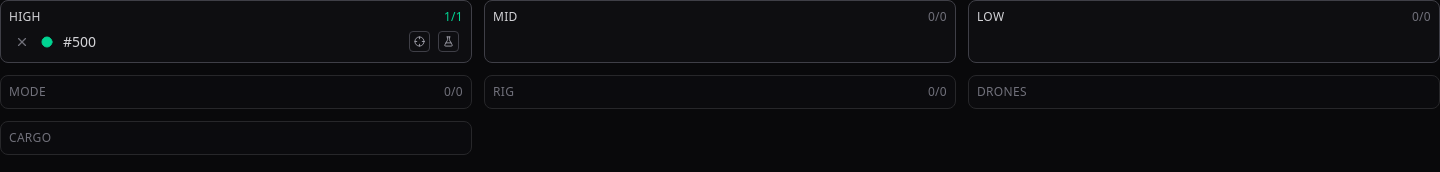
SlotGrid module state icon › shows the state and cycles active → overheated on click
Step 1. Click the button named "module state: active" → (47, 42), box [39,34,55,50]
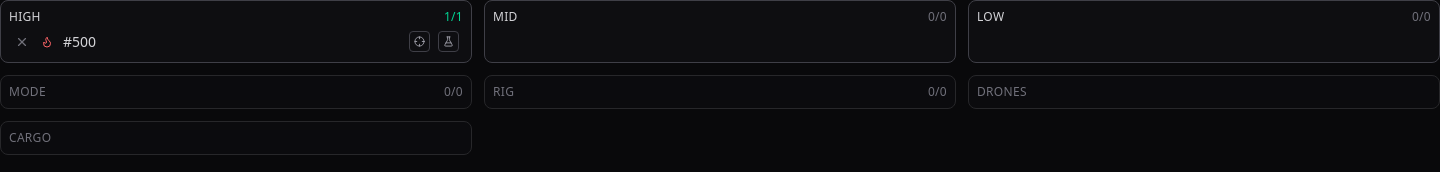
Expected: the button named "module state: overheated" is shown, [39,34,55,50]
